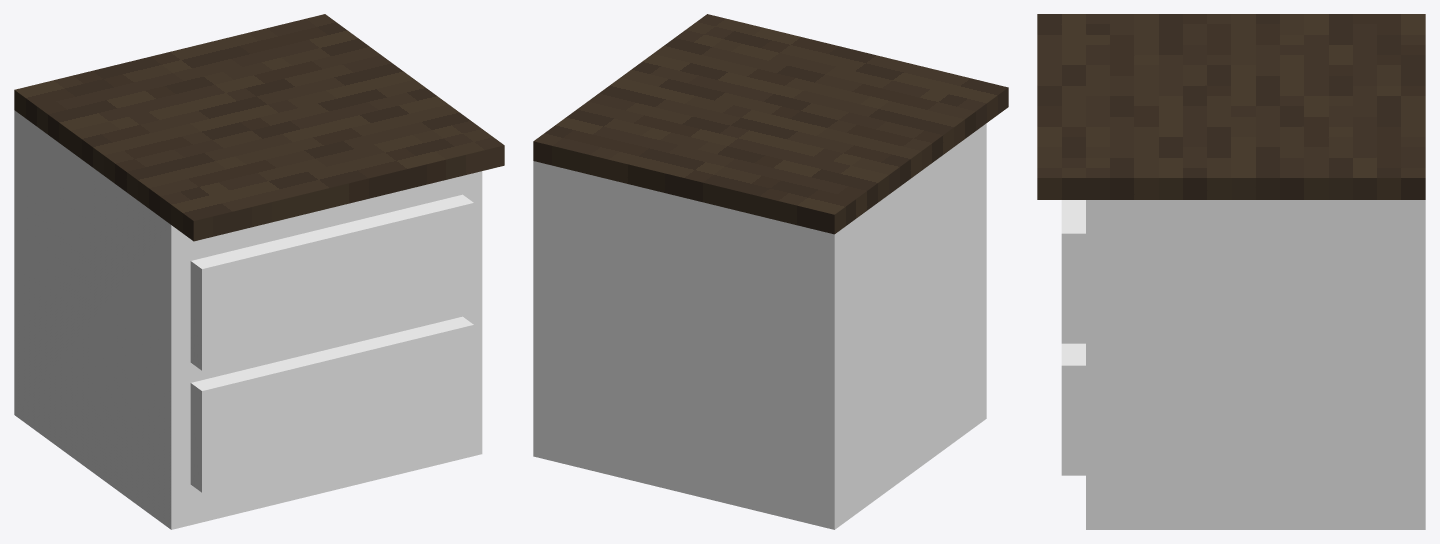
File: simple_furniture.gltf
3 views of the same model, side by side, from view 1: azimuth 30°, elevation 25°; view 2: azimuth 150°, elevation 25°; view 3: azimuth 270°, elevation 25° (orthographic). The views are drawn at different scales.
Visible parts, largest first — view 1: tiroir_bas_m_81bed88d-8018-8b3a-703d-92780e9eb221, wood_m_196c4595-31d7-5144-7919-2a6ddccae339; view 2: tiroir_bas_m_81bed88d-8018-8b3a-703d-92780e9eb221, wood_m_196c4595-31d7-5144-7919-2a6ddccae339; view 3: tiroir_bas_m_81bed88d-8018-8b3a-703d-92780e9eb221, wood_m_196c4595-31d7-5144-7919-2a6ddccae339.
Part boxes in pixels (x1=…): tiroir_bas_m_81bed88d-8018-8b3a-703d-92780e9eb221: x1=14, y1=110, x2=482, y2=529; wood_m_196c4595-31d7-5144-7919-2a6ddccae339: x1=14, y1=14, x2=504, y2=241; tiroir_bas_m_81bed88d-8018-8b3a-703d-92780e9eb221: x1=533, y1=123, x2=986, y2=529; wood_m_196c4595-31d7-5144-7919-2a6ddccae339: x1=533, y1=14, x2=1008, y2=234; tiroir_bas_m_81bed88d-8018-8b3a-703d-92780e9eb221: x1=1061, y1=200, x2=1425, y2=529; wood_m_196c4595-31d7-5144-7919-2a6ddccae339: x1=1037, y1=14, x2=1425, y2=199.
Bounding box in the file's own units: 10 × 10 × 10.
